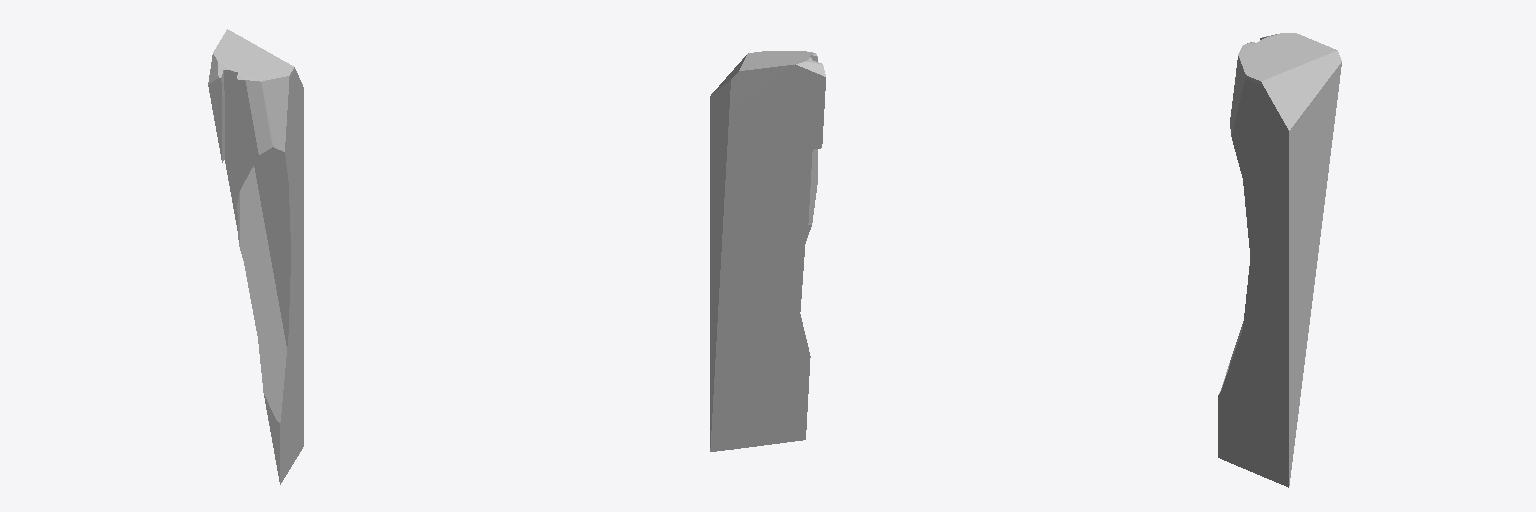
The model's file is li-fang-ti-.001_cell.153.obj.
The picture shows the model from 3 angles: view 1: azimuth 30°, elevation 25°; view 2: azimuth 150°, elevation 25°; view 3: azimuth 270°, elevation 25°; orthographic projection.
Parts seen in each view (by area): view 1: 立方体.001_cell.153; view 2: 立方体.001_cell.153; view 3: 立方体.001_cell.153.
Boxes of the visible parts, x1,y1,x2,y2 form: 立方体.001_cell.153: [208, 29, 303, 484]; 立方体.001_cell.153: [710, 51, 825, 451]; 立方体.001_cell.153: [1218, 33, 1341, 487].
Bounding box in the file's own units: 0.3794 × 1.41 × 0.3848.